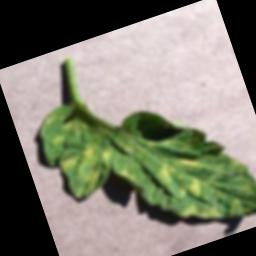Leaf_Mold: (71, 142, 108, 188), (178, 196, 225, 231), (155, 153, 200, 182), (174, 175, 204, 203), (57, 154, 79, 172), (99, 146, 113, 162)
